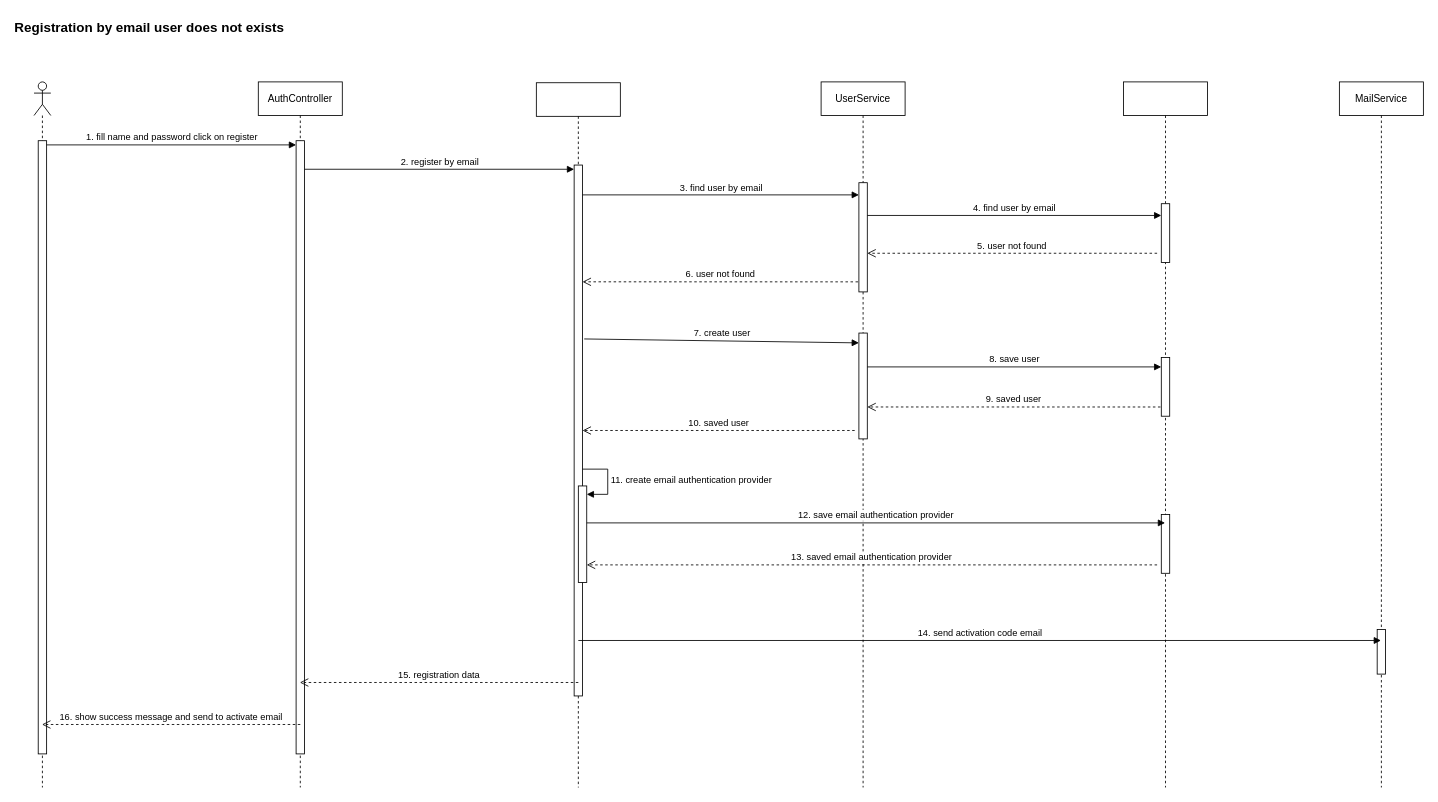
This 1438x802 diagram has some shape labels left out. The shapes that lost their labels are listed below. From the top down, each one's box as (x1, y1, x2, y2) in pixels, then its label:
(536, 82, 620, 788): AuthService
(1123, 81, 1208, 788): Database
